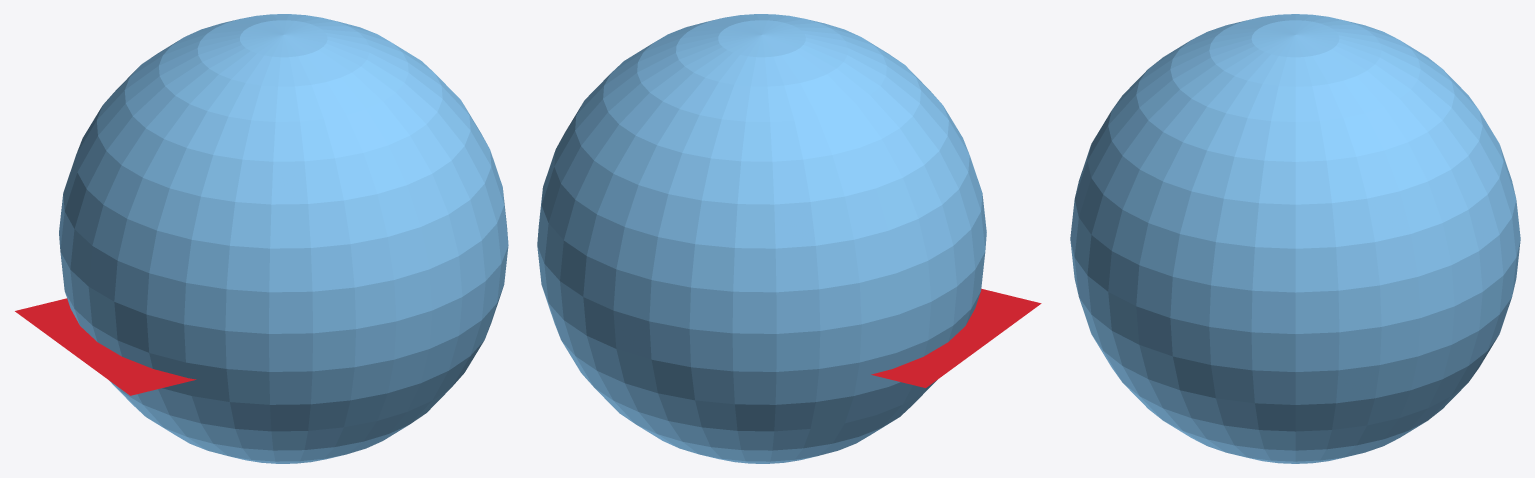
Rendered from test-zone2.glb.
3 renders of one model, left to right at view 1: azimuth 30°, elevation 25°; view 2: azimuth 150°, elevation 25°; view 3: azimuth 270°, elevation 25°, orthographic.
Parts seen in each view (by area): view 1: SkyBox, DeathPlane; view 2: SkyBox, DeathPlane; view 3: SkyBox.
Part boxes in pixels (<box>): SkyBox: <box>59,14,508,463</box>; DeathPlane: <box>15,298,196,395</box>; SkyBox: <box>537,14,986,463</box>; DeathPlane: <box>871,288,1041,387</box>; SkyBox: <box>1070,14,1520,463</box>.
Size of the model in its own units: 369 by 350 by 350.
14 materials, 13 textured.
